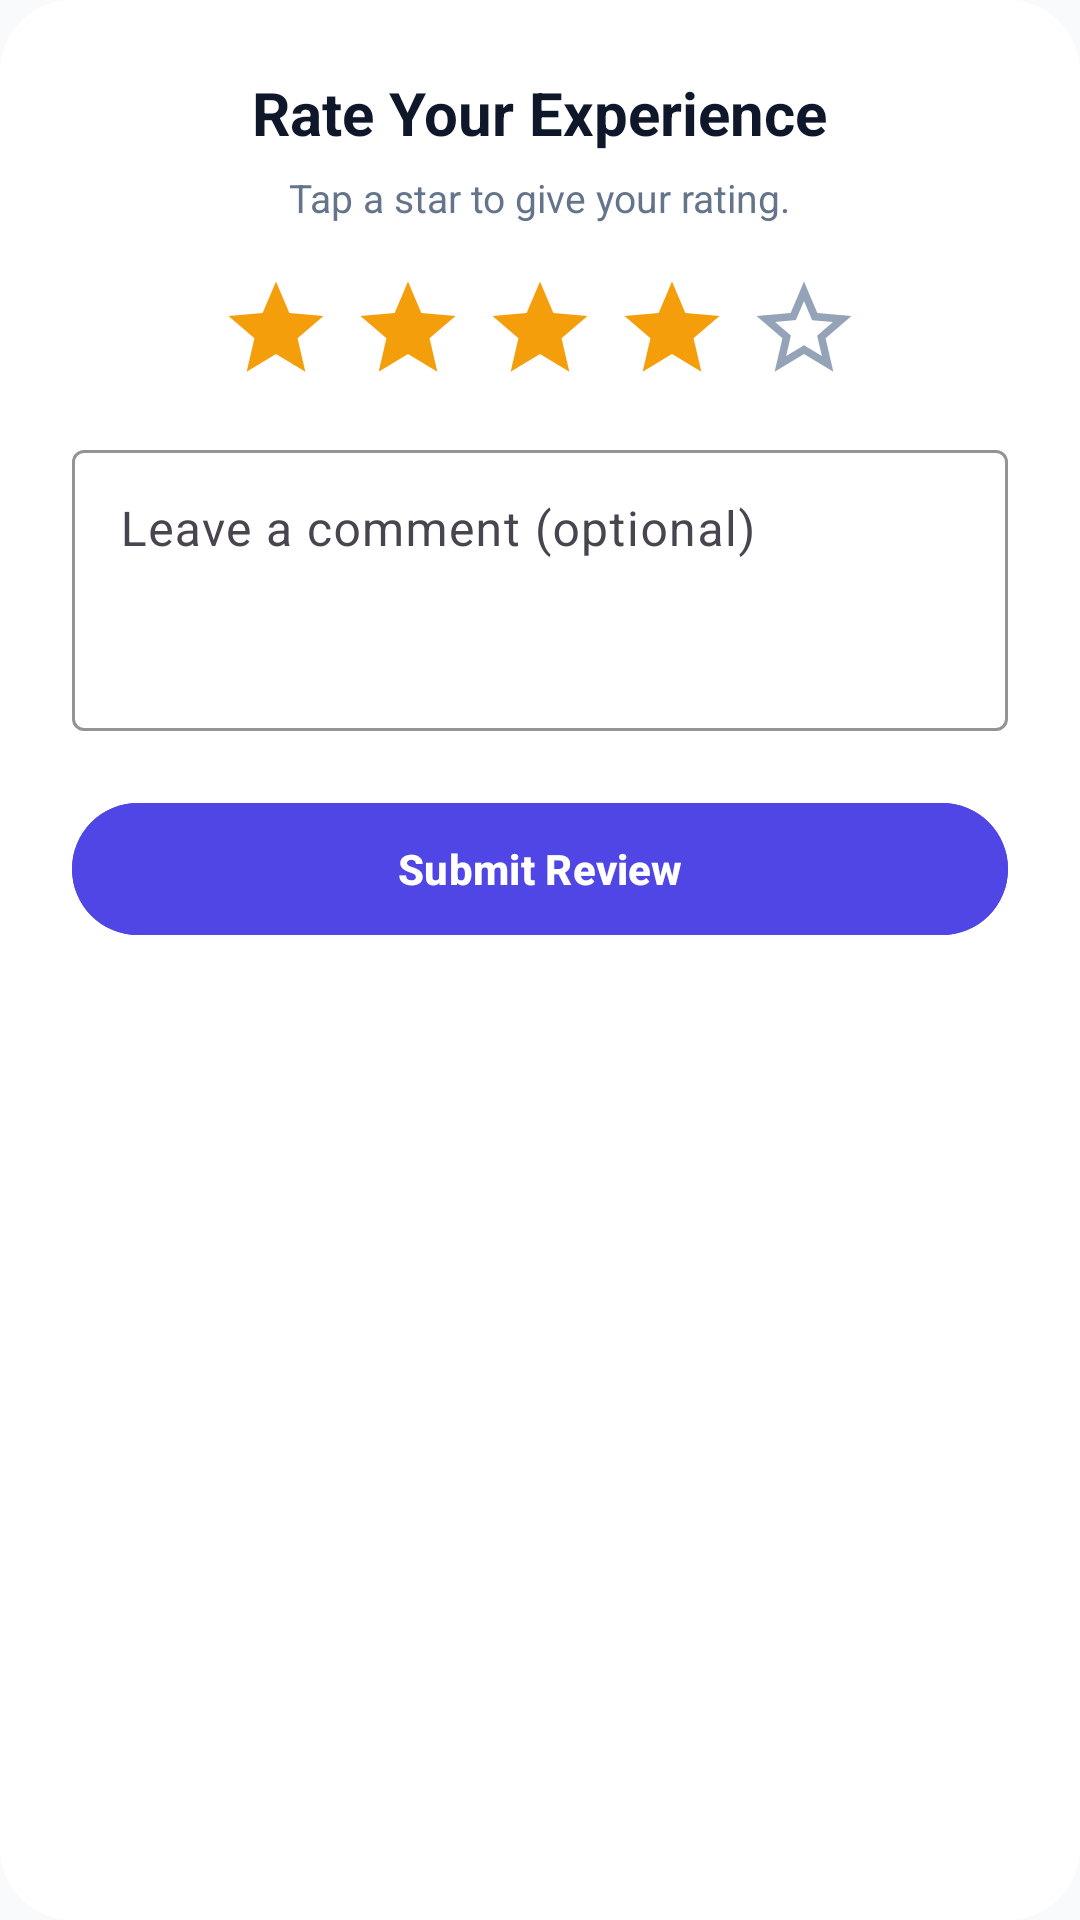

Icons on this 1080px x 1920px Android screen, each with the point to tap as (x,y):
1 Star: (276,327)
2 Stars: (408,327)
3 Stars: (540,327)
4 Stars: (672,327)
5 Stars: (804,327)
